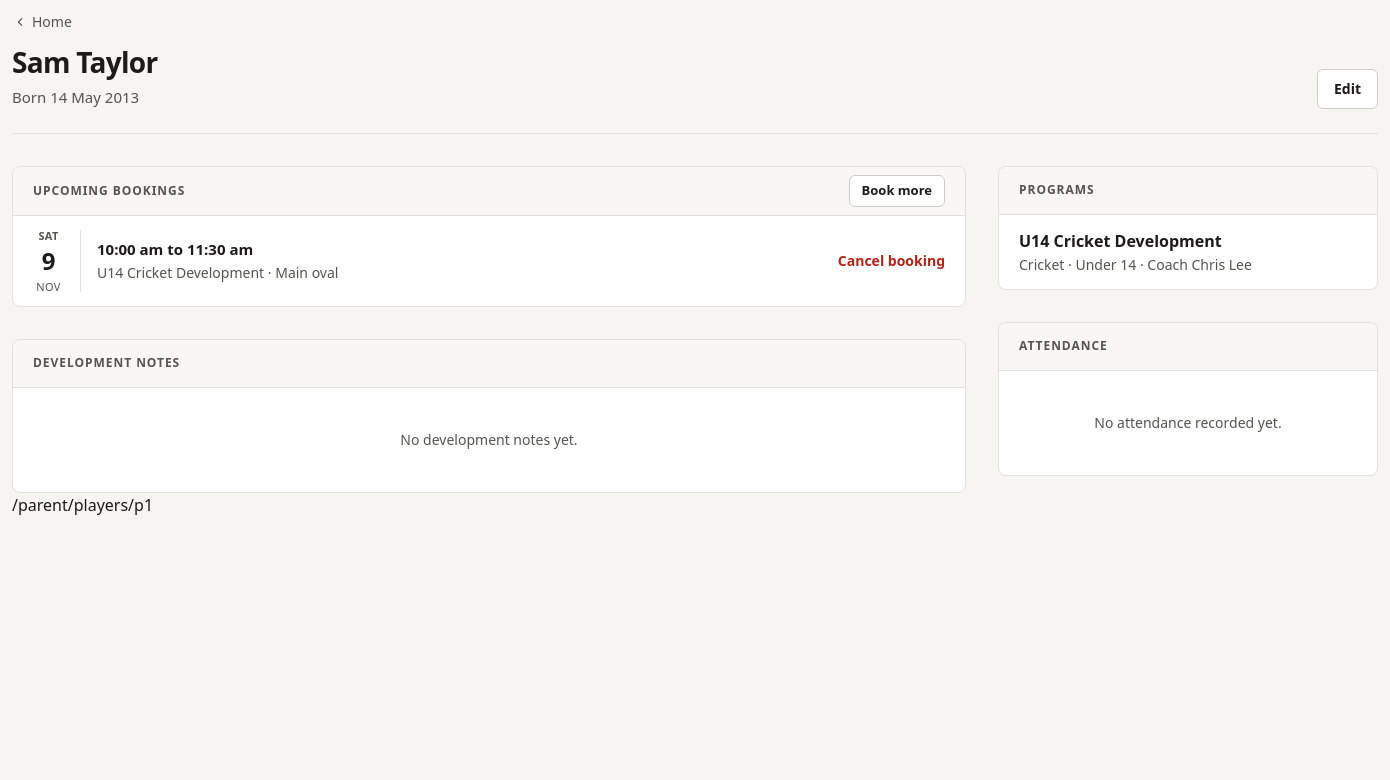
Test: parent booking pages › lists a child’s bookings and cancels one
The width and height of the screenshot is (1390, 780).
Click the button with aria-label "Cancel booking for Saturday 9 November" at x=891, y=260, box 838,242 -> 945,278
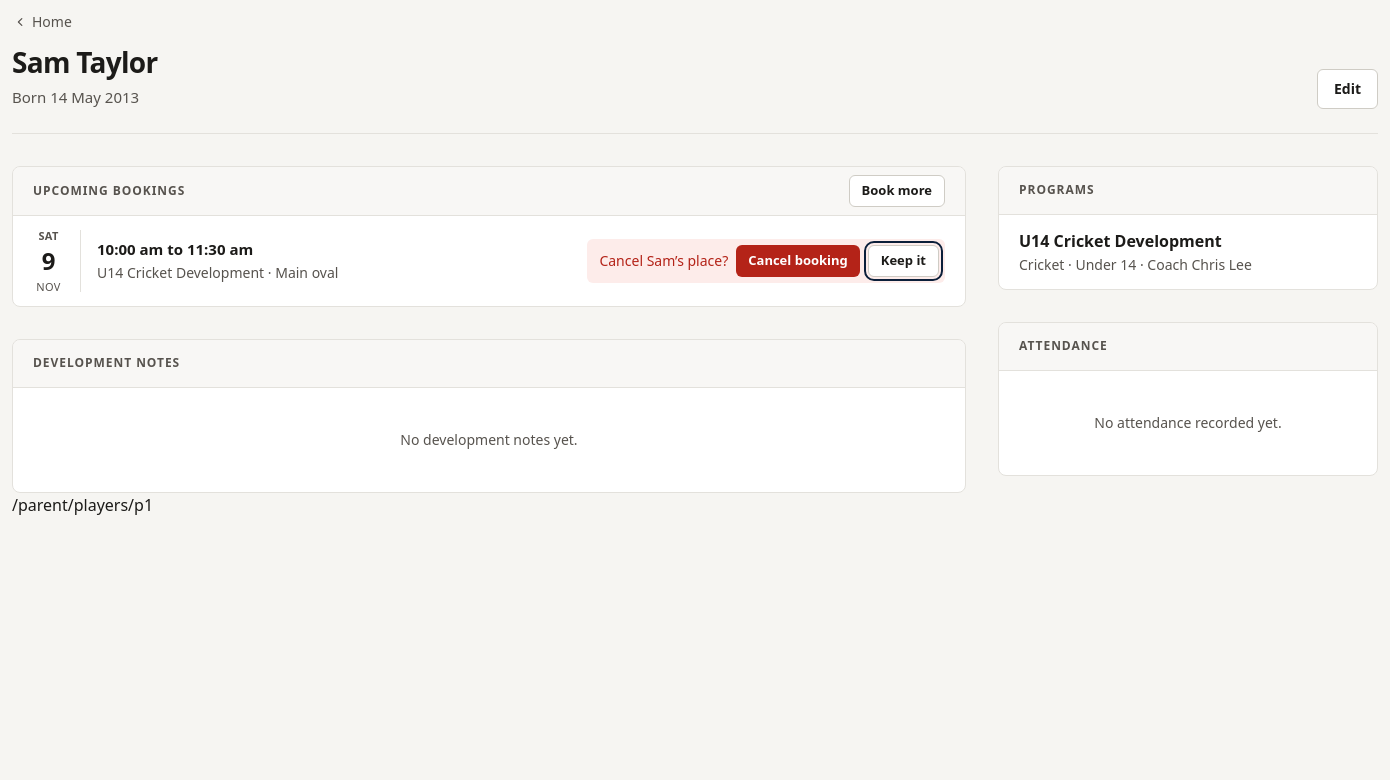
Click the button "Cancel booking" at x=798, y=260, box 736,244 -> 860,276
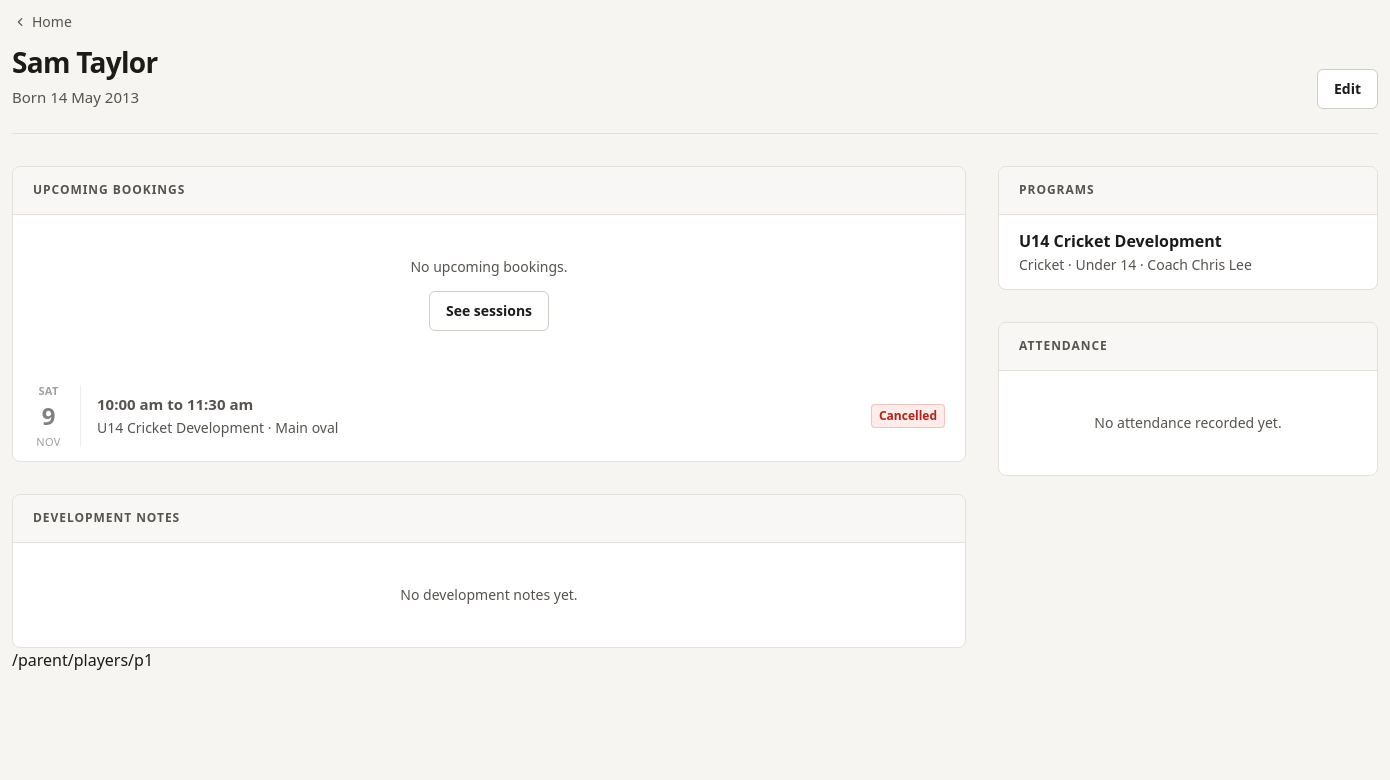
Expected: the text "Cancelled" is shown, 871,404 -> 945,428
